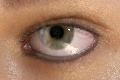eye: (38, 24, 75, 50)
